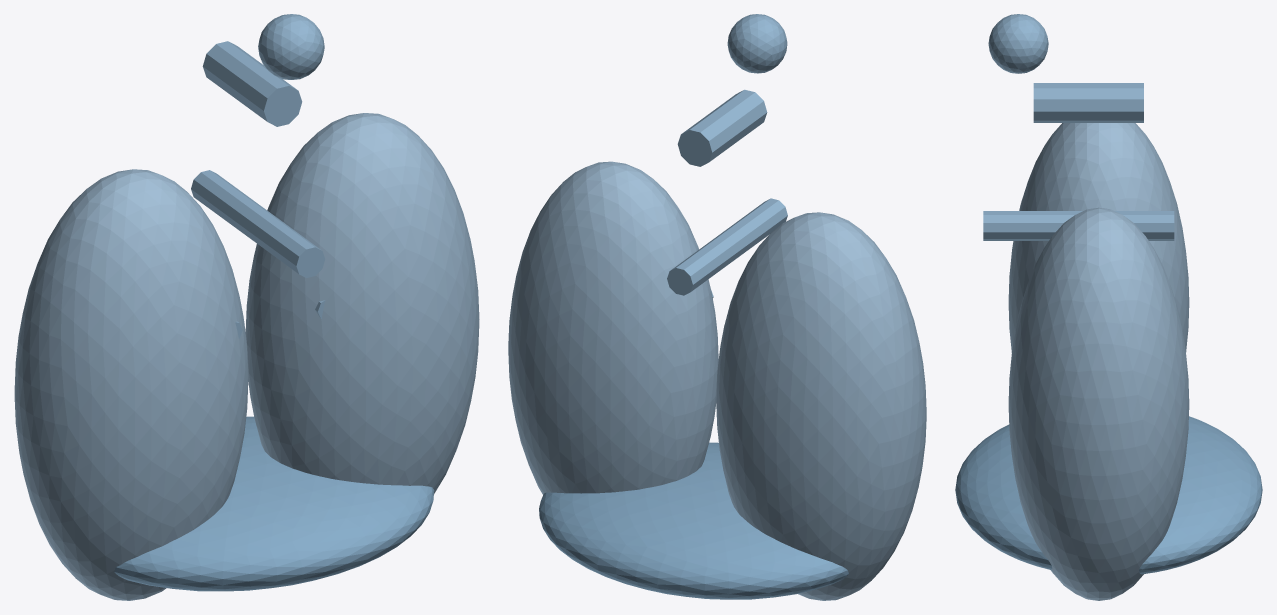
Rendered from respiratory.glb.
3 views of the same model, side by side, from view 1: azimuth 30°, elevation 25°; view 2: azimuth 150°, elevation 25°; view 3: azimuth 270°, elevation 25° (orthographic). The views are drawn at different scales.
Visible parts, largest first — view 1: world; view 2: world; view 3: world.
Part boxes in pixels (box(x1,y1,x2,y2)): world: box(14, 14, 479, 600); world: box(508, 14, 926, 600); world: box(955, 14, 1262, 600).
Bounding box in the file's own units: 0.92 × 1.16 × 0.612.
